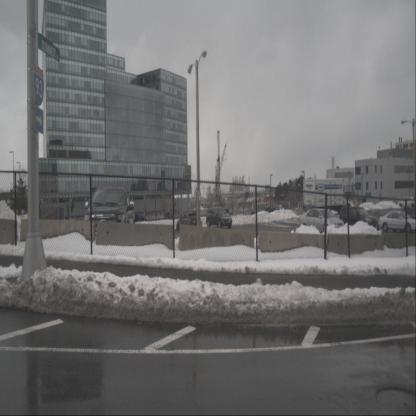vehicle-car: (298, 208, 345, 234), (340, 206, 378, 234), (378, 210, 416, 233), (206, 206, 232, 228), (176, 212, 201, 232), (398, 196, 416, 209), (132, 214, 148, 223), (265, 204, 277, 214), (164, 212, 175, 220)
vehicle-truck: (84, 186, 134, 242)
